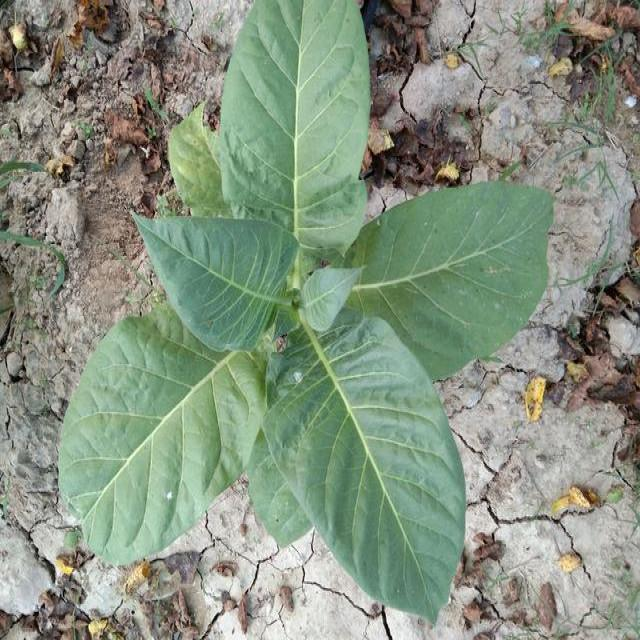crop: (62, 8, 552, 602)
